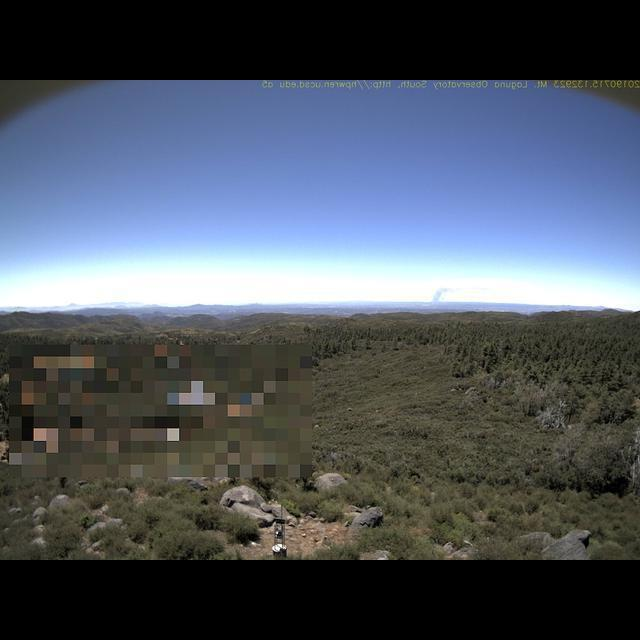Smoke: (428, 284, 462, 308)
